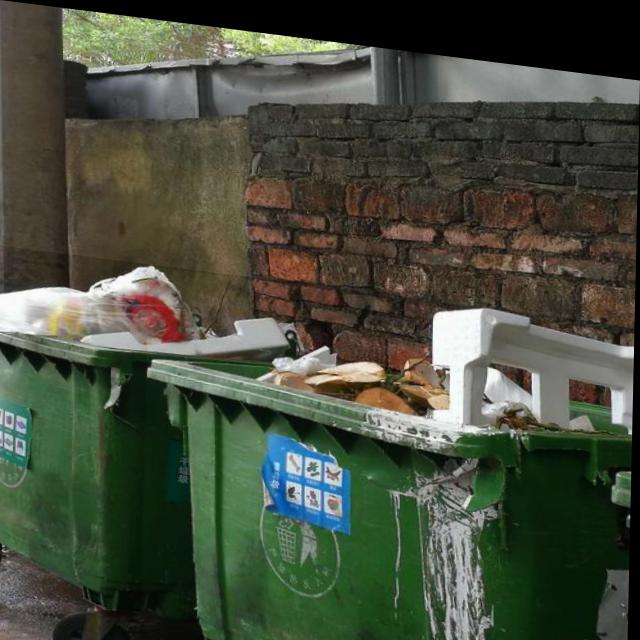overflow: (143, 262, 634, 640), (0, 245, 293, 623)
